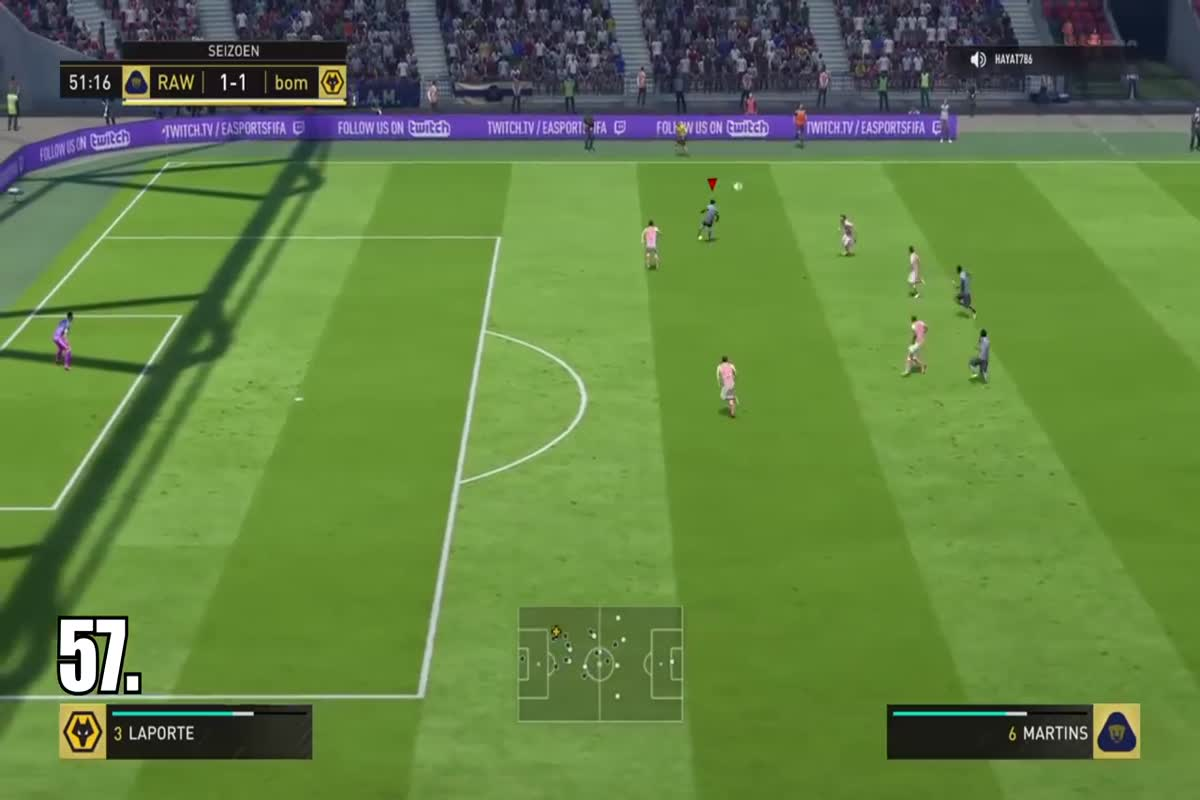ball: (690, 230, 712, 249)
